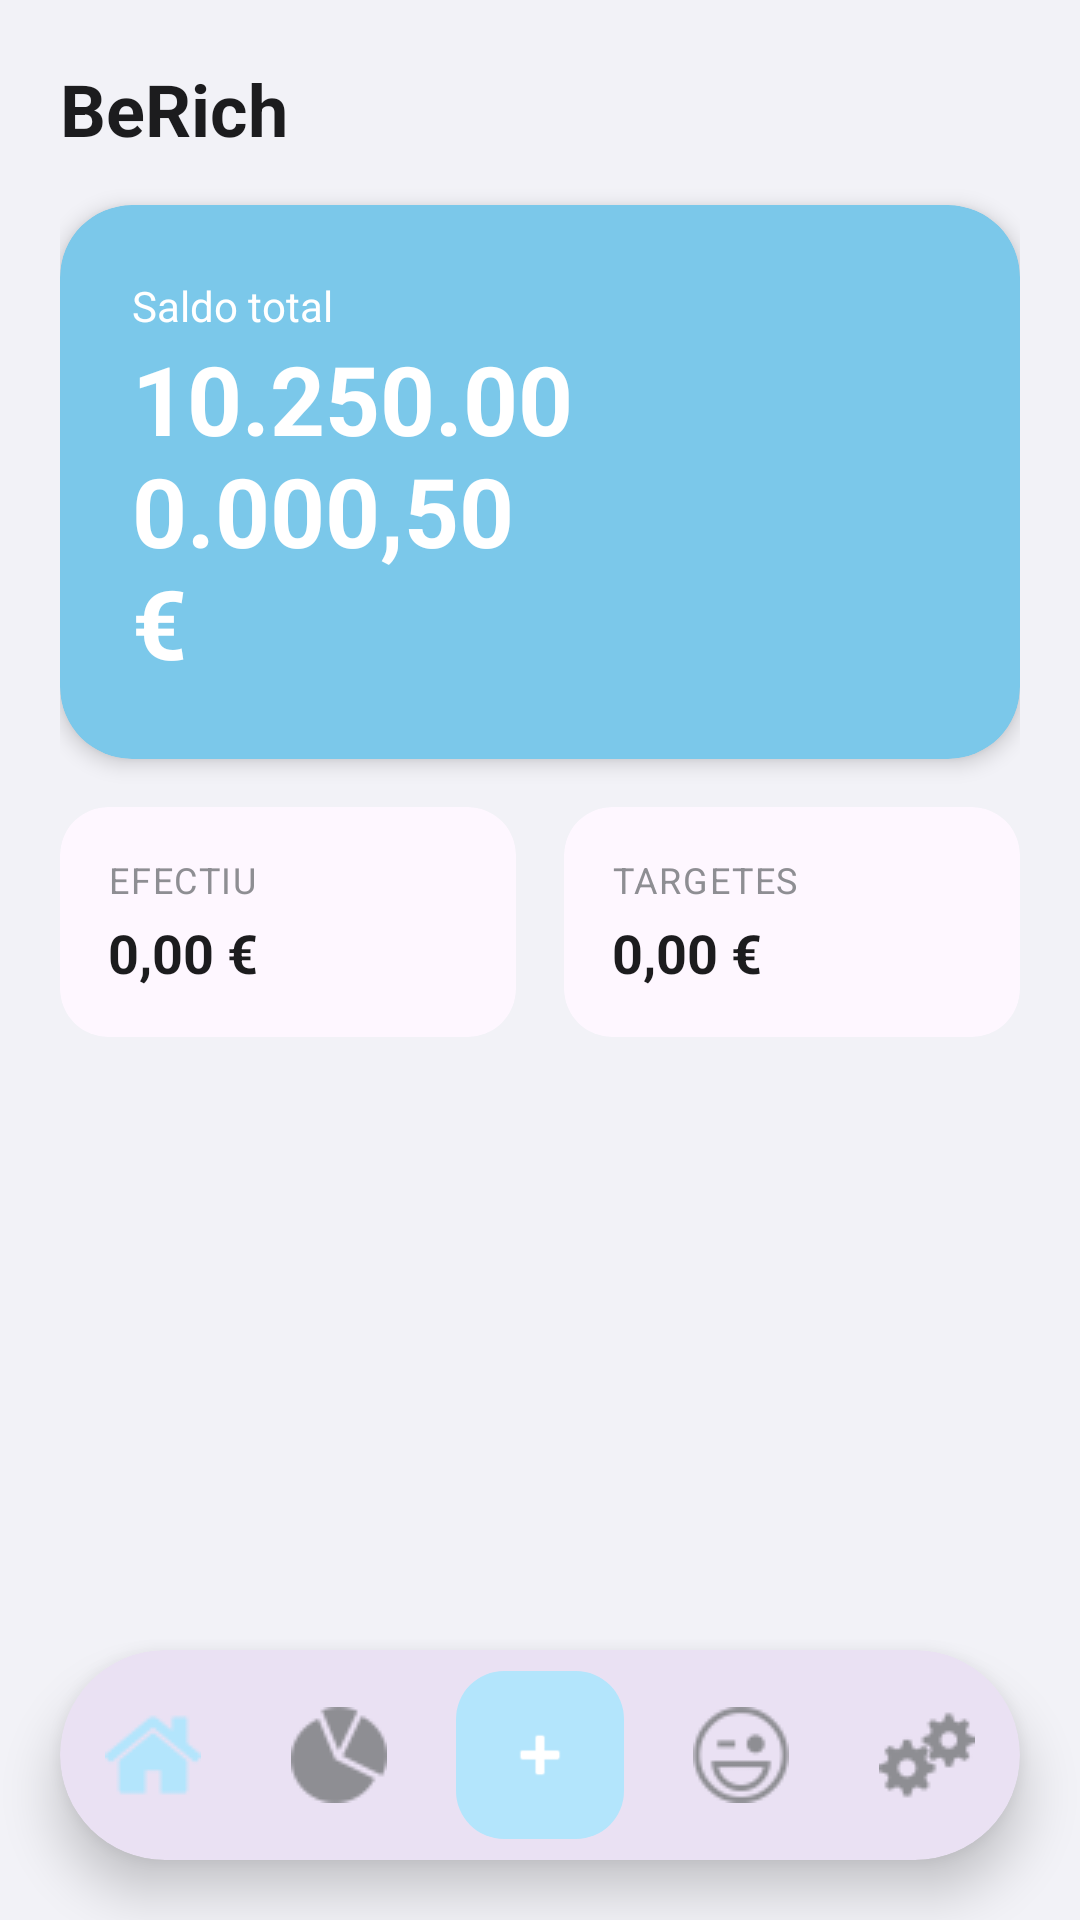

Where to tap for icons on this 1080px×1920px app screen, as [x,y]:
add: [540,1755]
chart: [339,1755]
face: [741,1755]
house: [130,1755]
settings: [949,1755]
